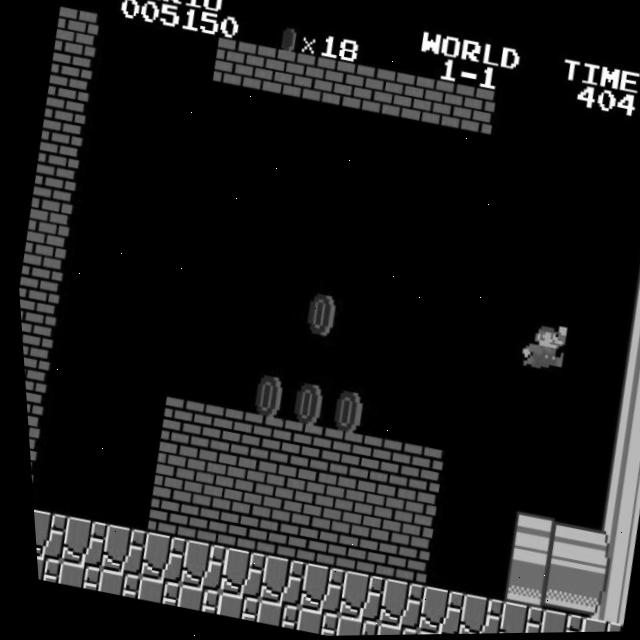1- brick_block: (143, 441, 196, 496), (247, 45, 300, 100), (175, 493, 228, 548), (287, 53, 340, 108), (215, 501, 268, 556), (326, 61, 379, 116), (255, 509, 308, 564), (301, 472, 354, 527), (341, 480, 394, 535), (381, 488, 434, 543), (136, 486, 189, 540), (262, 465, 315, 519), (366, 69, 419, 123), (294, 517, 347, 571), (405, 77, 458, 131), (334, 525, 387, 579), (445, 85, 498, 139), (28, 140, 80, 194), (21, 185, 73, 239), (208, 38, 260, 92), (151, 396, 203, 450), (190, 404, 242, 458), (183, 449, 235, 503), (230, 412, 282, 466), (223, 457, 275, 511), (374, 533, 426, 587), (50, 6, 102, 59), (309, 428, 361, 481), (270, 420, 321, 474), (43, 51, 94, 104), (36, 96, 87, 149), (349, 436, 400, 489), (389, 444, 440, 497), (15, 230, 65, 283), (14, 275, 58, 328), (17, 320, 52, 373), (19, 365, 44, 417), (21, 410, 36, 462)
11- little_mario: (510, 317, 565, 375)
14- pipe: (539, 519, 592, 574), (532, 564, 585, 619), (571, 572, 624, 626), (586, 482, 637, 536), (579, 528, 630, 581), (592, 437, 640, 492), (599, 392, 640, 447), (607, 348, 640, 402), (613, 303, 640, 357), (621, 258, 640, 312), (629, 214, 640, 267), (635, 169, 640, 222)
15- pipe_head: (499, 511, 552, 566), (492, 556, 545, 611)
17- undestructible_block: (168, 538, 221, 593), (208, 546, 261, 601), (248, 554, 301, 609), (287, 562, 340, 617), (366, 578, 419, 633), (89, 523, 142, 577), (129, 531, 182, 585), (50, 515, 102, 570), (327, 570, 379, 625), (406, 585, 459, 636), (445, 594, 498, 635), (27, 507, 62, 561), (485, 601, 537, 635), (166, 583, 213, 615), (127, 575, 173, 607), (206, 591, 252, 623), (246, 599, 292, 631), (47, 560, 94, 591), (87, 568, 134, 599), (285, 607, 332, 637), (524, 609, 576, 634), (324, 614, 371, 637), (564, 616, 615, 634), (29, 552, 55, 583), (364, 623, 410, 636)
2- coin: (276, 375, 329, 430), (316, 382, 369, 437), (237, 367, 290, 421), (291, 285, 343, 340)
